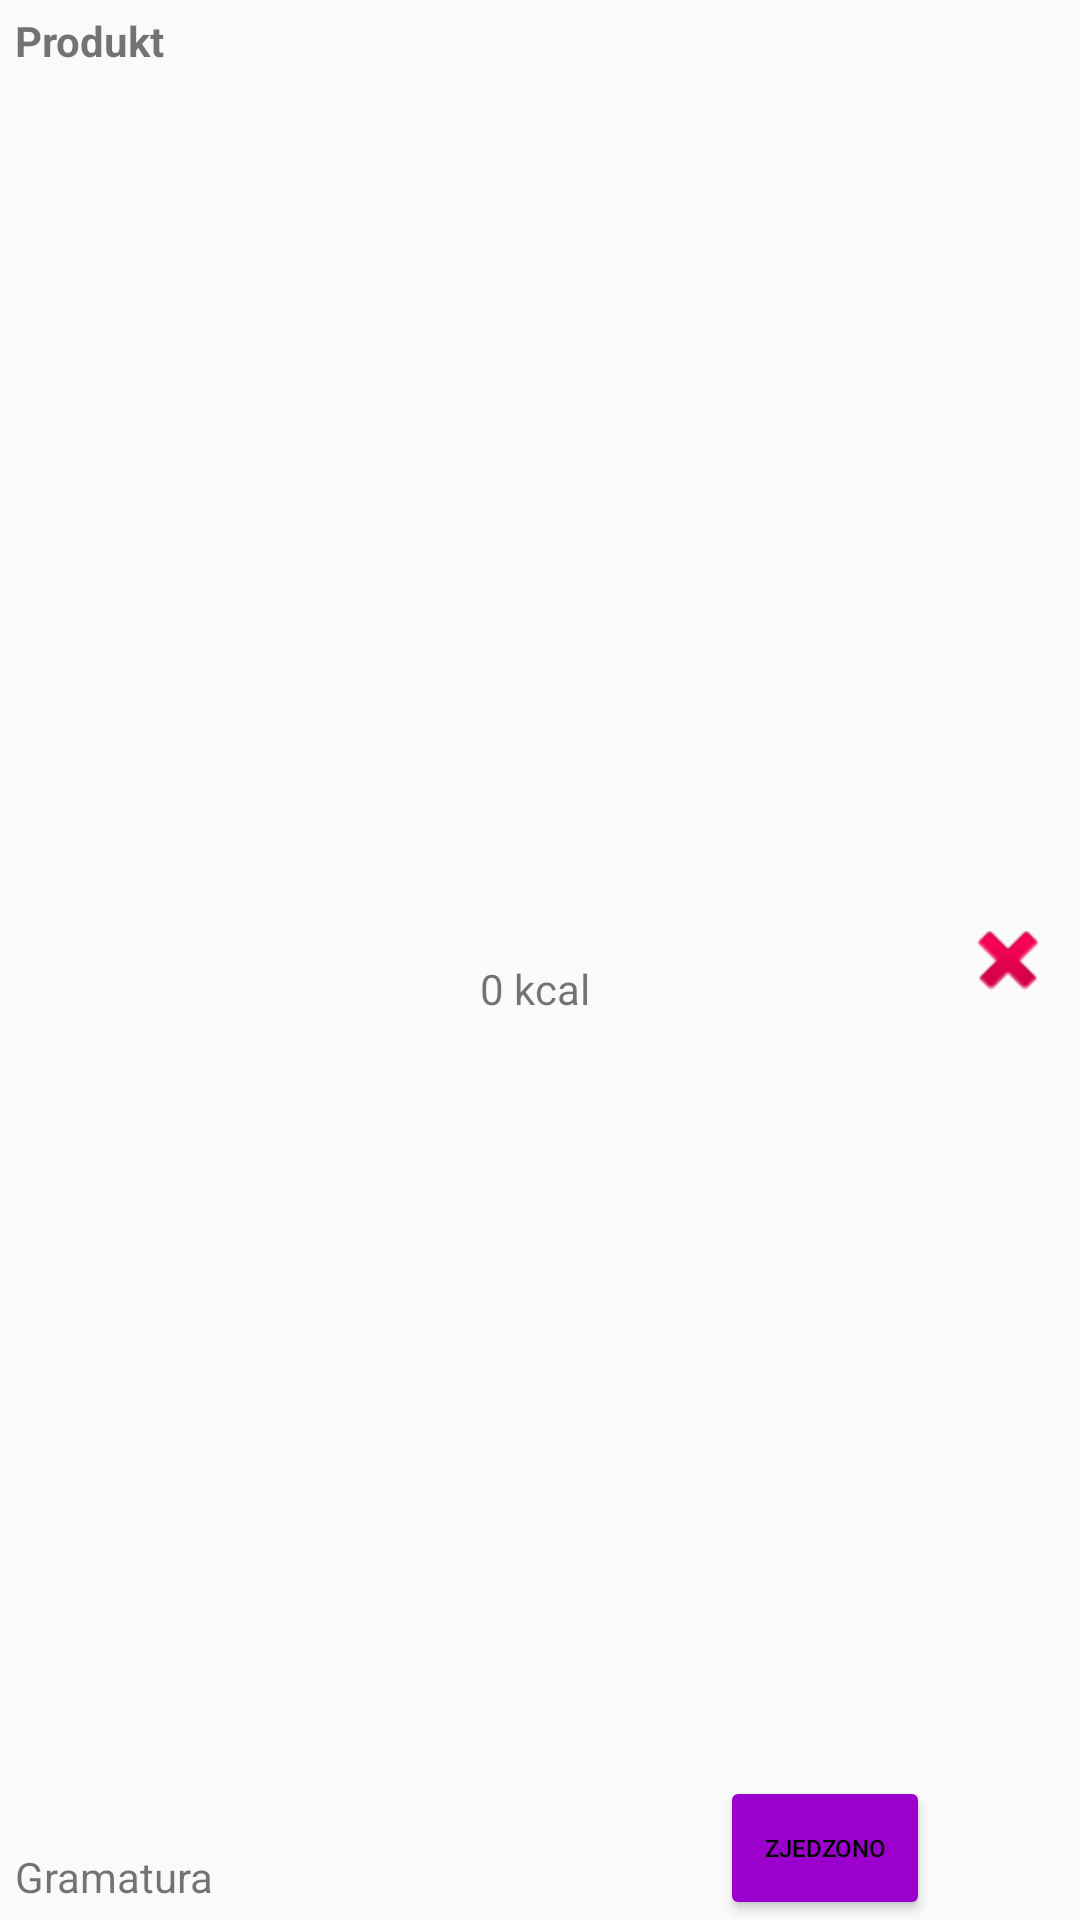

Screen size 1080*1920. Icon name, then its center in pixels as point (x, y):
delete: point (1008, 960)
